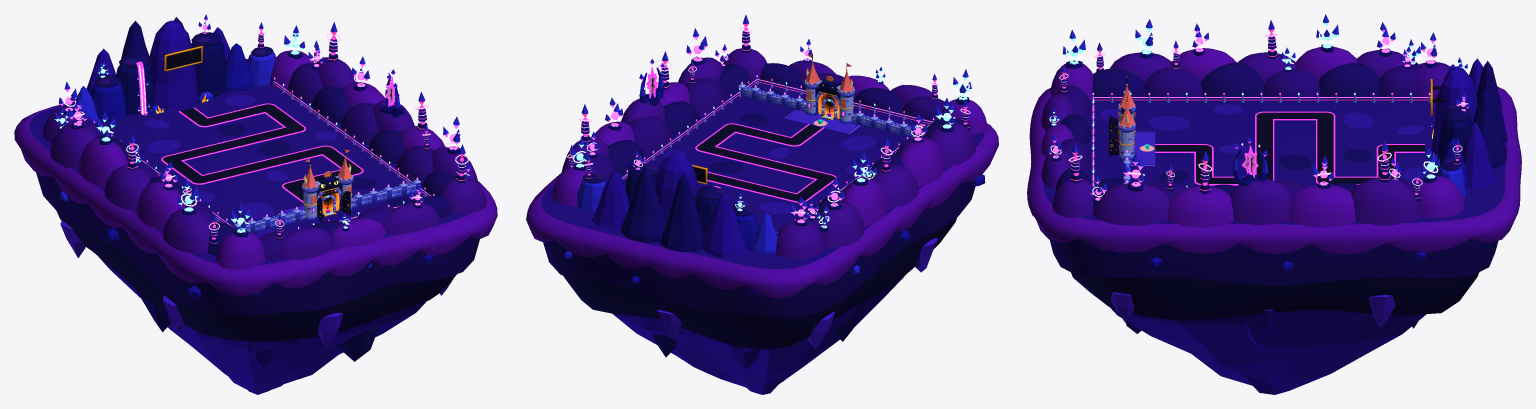
The model's file is the_void_base.fbx.
The picture shows the model from 3 angles, left to right: view 1: azimuth 30°, elevation 25°; view 2: azimuth 150°, elevation 25°; view 3: azimuth 270°, elevation 25°; orthographic projection. The views are drawn at different scales.
Visible parts, largest first — view 1: Base_Cliff, Base_Backdrop, Base_Ground, Base_Glow, Base_Road, Base_Trees, Base_Gate, Base_GateTrim; view 2: Base_Cliff, Base_Backdrop, Base_Ground, Base_Glow, Base_Trees, Base_Road, Base_Gate, Base_GateTrim, Base_Dressing; view 3: Base_Cliff, Base_Backdrop, Base_Ground, Base_Glow, Base_Trees, Base_Road, Base_Gate, Base_Dressing, Base_GateTrim.
Boxes of the visible parts, box(x1,y1,x2,y2) form: Base_Cliff: box(14, 59, 497, 394); Base_Backdrop: box(43, 17, 486, 269); Base_Ground: box(29, 59, 470, 265); Base_Glow: box(54, 19, 470, 243); Base_Road: box(163, 104, 361, 213); Base_Trees: box(54, 14, 470, 246); Base_Gate: box(234, 149, 421, 232); Base_GateTrim: box(303, 150, 352, 204); Base_Cliff: box(526, 123, 998, 394); Base_Backdrop: box(552, 48, 988, 259); Base_Ground: box(540, 82, 984, 269); Base_Glow: box(567, 23, 970, 232); Base_Trees: box(569, 14, 971, 231); Base_Road: box(697, 110, 859, 201); Base_Gate: box(738, 54, 920, 137); Base_GateTrim: box(805, 55, 853, 125); Base_Dressing: box(626, 78, 933, 185); Base_Cliff: box(1027, 86, 1521, 394); Base_Backdrop: box(1041, 47, 1507, 227); Base_Ground: box(1042, 94, 1506, 224); Base_Glow: box(1049, 22, 1468, 200); Base_Trees: box(1047, 14, 1470, 204); Base_Road: box(1130, 112, 1424, 183); Base_Gate: box(1109, 77, 1155, 183); Base_Dressing: box(1091, 96, 1430, 187); Base_GateTrim: box(1118, 86, 1154, 151).
Size of the model in its own units: 188 by 179 by 244.
